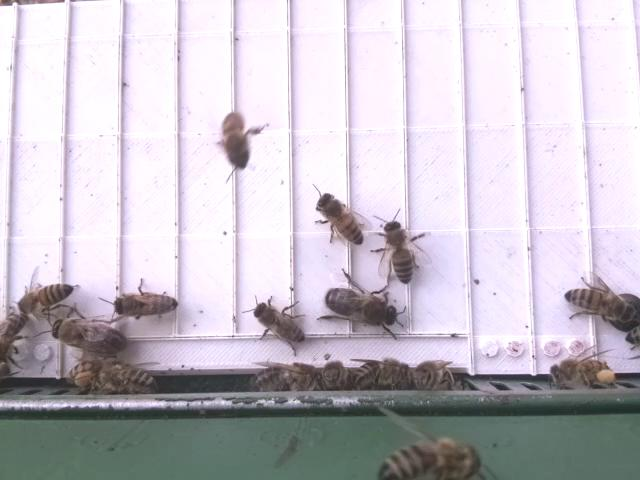Drone: (322, 284, 401, 331), (49, 315, 129, 360)
Worker: (559, 280, 637, 330), (377, 444, 475, 480), (313, 191, 367, 250), (251, 300, 309, 348), (16, 278, 78, 319), (380, 217, 416, 285), (92, 363, 158, 396), (111, 289, 180, 320)
